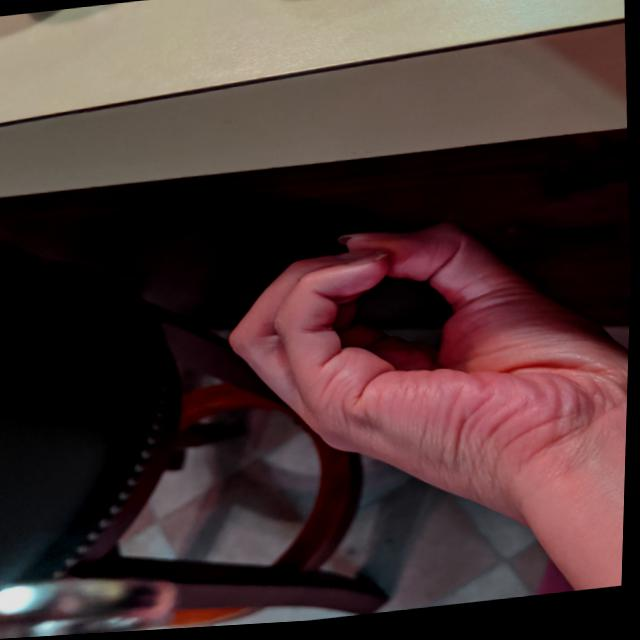O: (214, 204, 634, 542)
